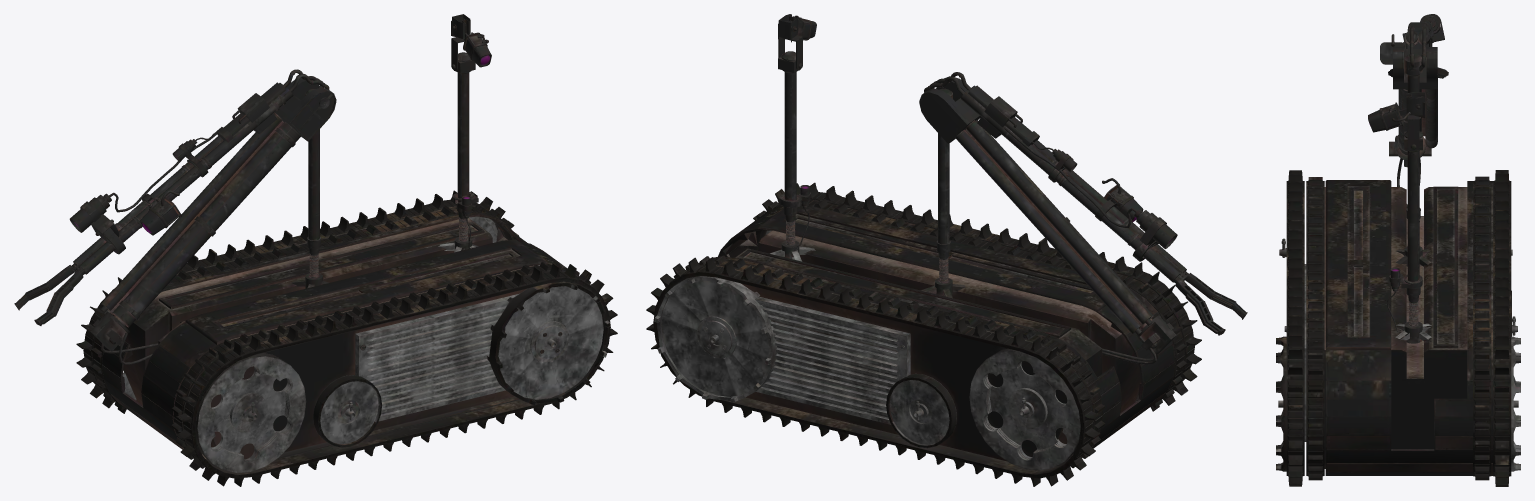
The model's file is osint_bot.glb.
3 renders of one model, left to right at view 1: azimuth 30°, elevation 25°; view 2: azimuth 150°, elevation 25°; view 3: azimuth 270°, elevation 25°, orthographic. The views are drawn at different scales.
Visible parts, largest first — view 1: Object_4; view 2: Object_4; view 3: Object_4.
Boxes of the visible parts, x1=… form: Object_4: x1=14, y1=14, x2=617, y2=486; Object_4: x1=646, y1=14, x2=1247, y2=486; Object_4: x1=1276, y1=14, x2=1520, y2=486.
Size of the model in its own units: 2 by 1.28 by 0.7662.
Materials: 1 (1 with a texture image).
